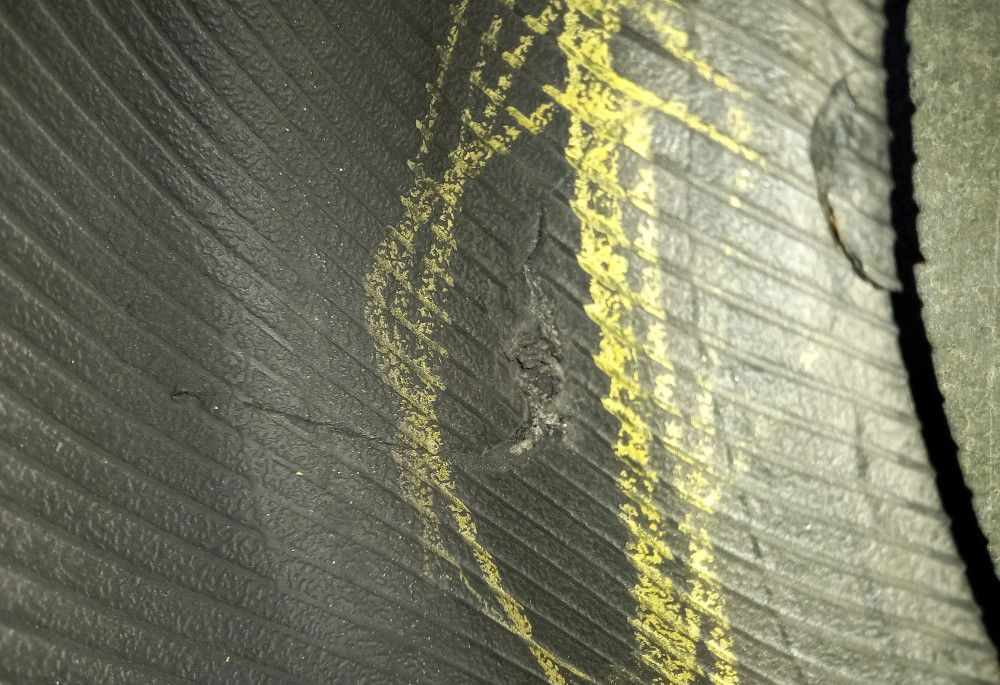CBU: (451, 187, 595, 476)
